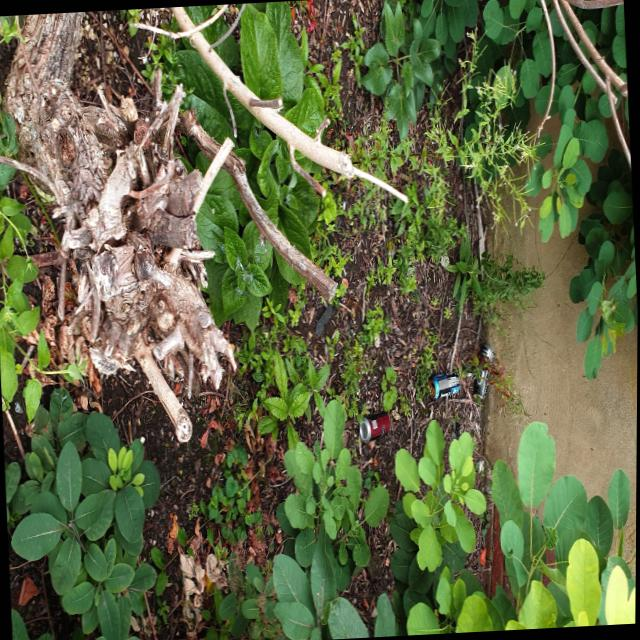Can-Metal: (469, 338, 501, 408), (355, 403, 393, 445), (424, 369, 461, 402)
